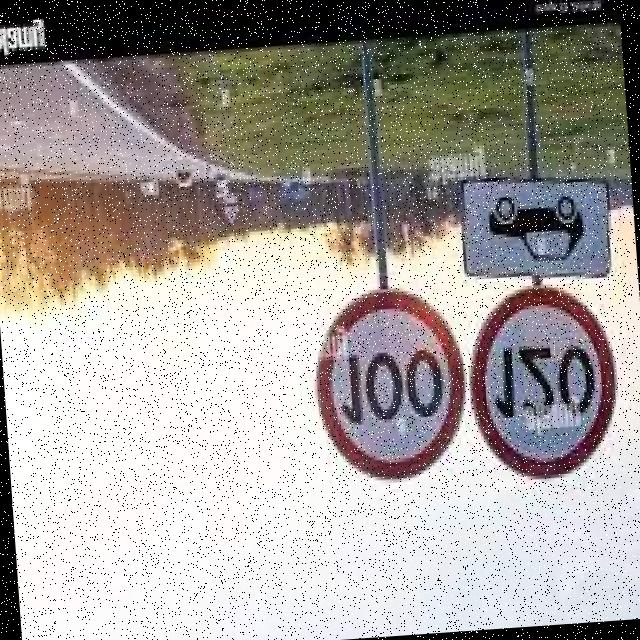speed_limit_100: (305, 285, 474, 498)
speed_limit_120: (464, 281, 626, 509)
